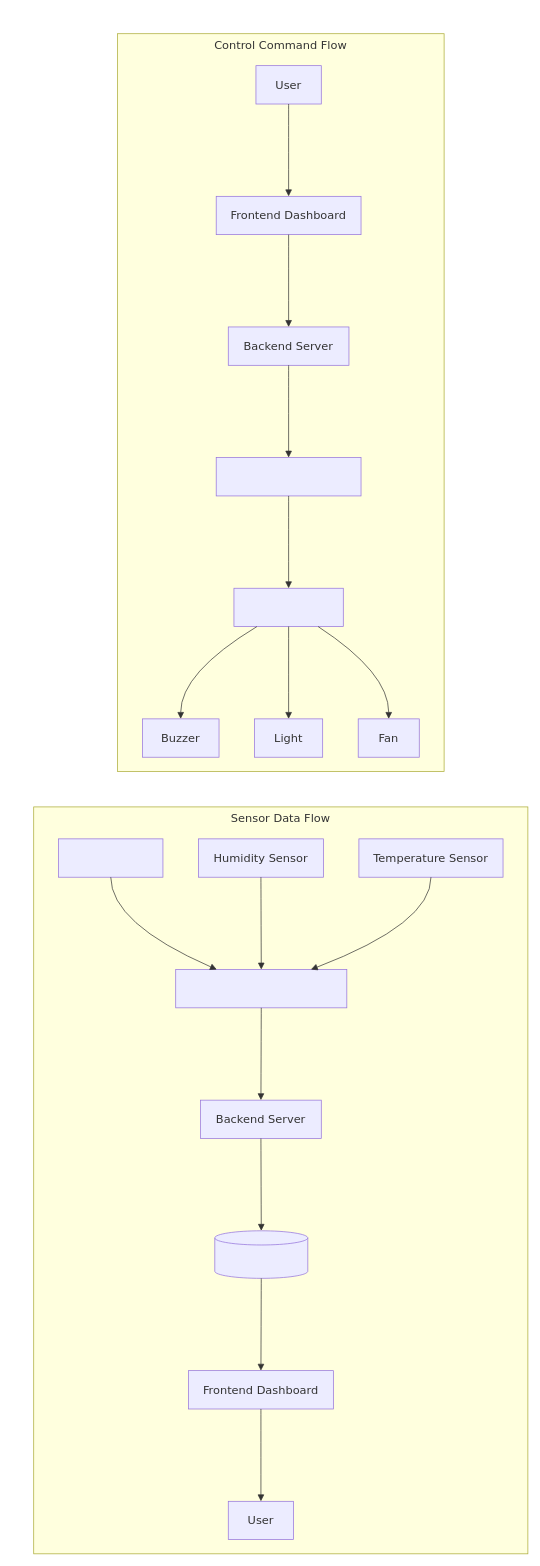
The diagram is 540 pixels wide and 1566 high, and some of its shapes have lost their labels. The shapes that lost their labels are listed below. From the top down, each one's centre as x and y in pixels, then its label:
At point (288, 476): "STM32 Control Node".
At point (288, 607): "Relay Module".
At point (110, 857): "Light Sensor".
At point (261, 988): "ESP8266 Monitoring Node".
At point (261, 1254): "MySQL Database".
